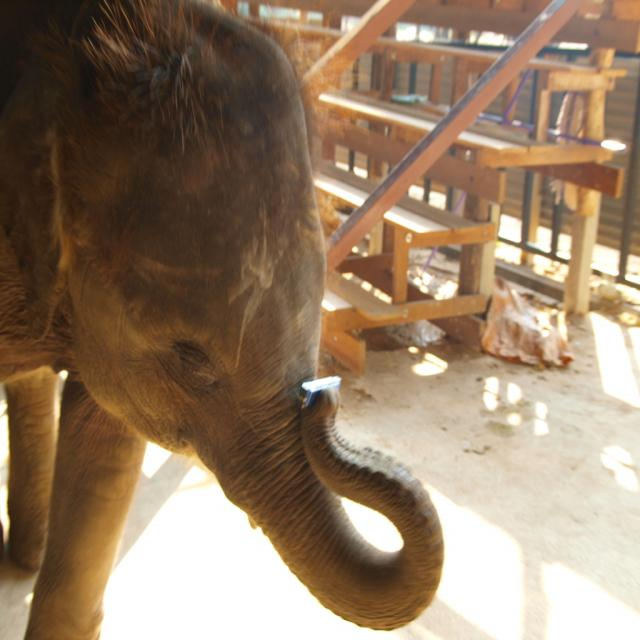Elephant: (0, 0, 444, 639)
